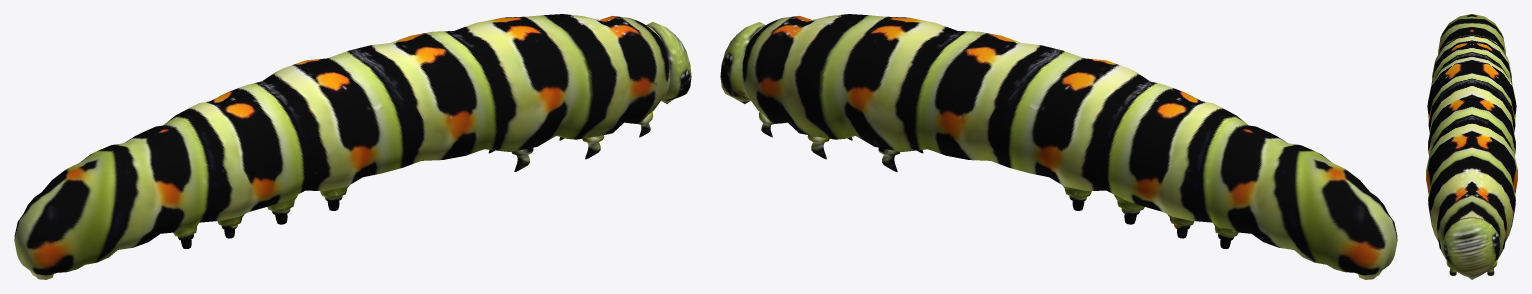
The model's file is larva.fbx.
3 views of the same model, side by side, from view 1: azimuth 30°, elevation 25°; view 2: azimuth 150°, elevation 25°; view 3: azimuth 270°, elevation 25° (orthographic). The views are drawn at different scales.
Visible parts, largest first — view 1: Larva Body, Larva head, Prolegs, Larva true Legs; view 2: Larva Body, Larva head, Prolegs, Larva true Legs; view 3: Larva Body, Larva head, Larva true Legs.
Boxes of the visible parts, <box> form: Larva Body: <box>14,14,669,279</box>; Larva head: <box>646,22,691,103</box>; Prolegs: <box>173,185,349,248</box>; Larva true Legs: <box>488,112,652,171</box>; Larva Body: <box>742,14,1397,279</box>; Larva head: <box>720,22,765,103</box>; Prolegs: <box>1062,185,1238,248</box>; Larva true Legs: <box>759,112,923,171</box>; Larva Body: <box>1426,14,1517,260</box>; Larva head: <box>1443,217,1500,279</box>; Larva true Legs: <box>1446,260,1497,275</box>.
Bounding box in the file's own units: 0.2327 × 0.0494 × 0.0382.
